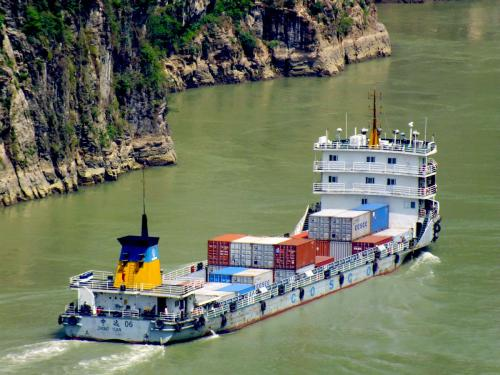boat: (60, 126, 438, 337)
